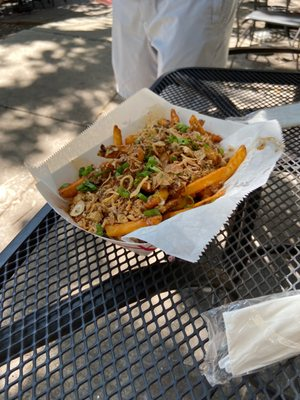sandwich: (54, 110, 248, 238)
